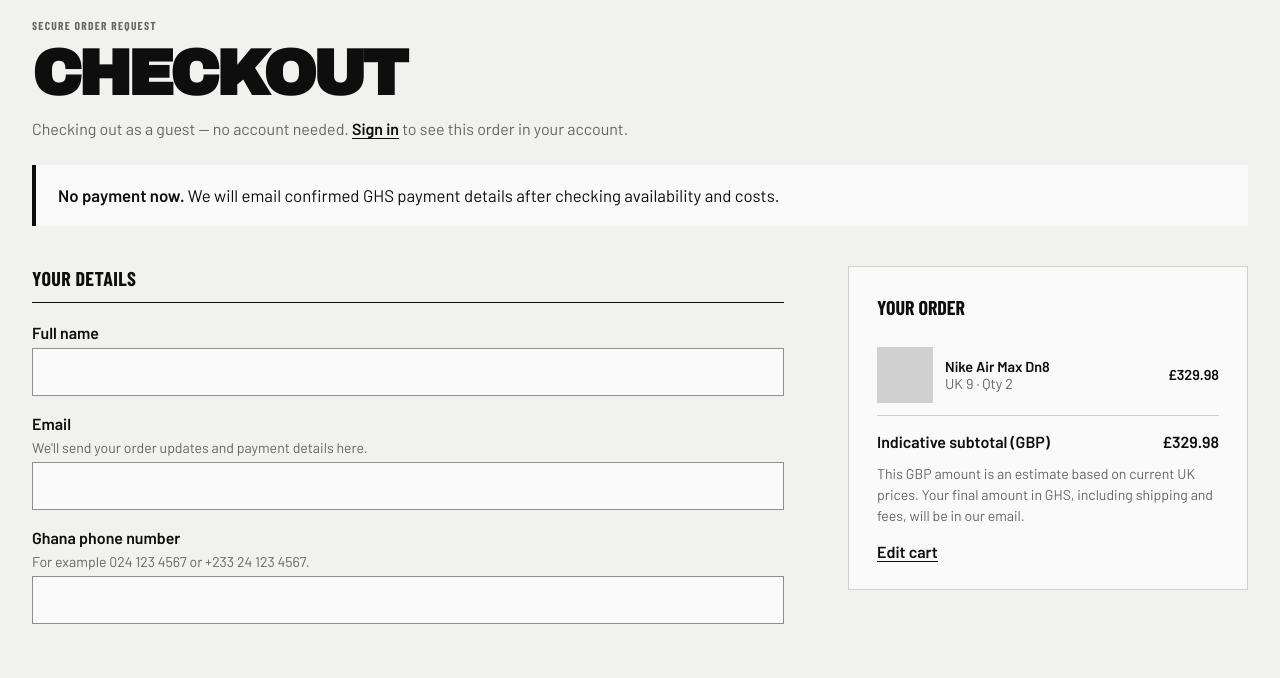
Test case: network uncertainty keeps the cart and says retrying is safe
The width and height of the screenshot is (1280, 678).
Type "Ama Mensah" into the field labelled "Full name" at (408, 372), box [32, 348, 784, 396]
Type "ama@example.test" into the field labelled "Email" at (408, 486), box [32, 462, 784, 510]
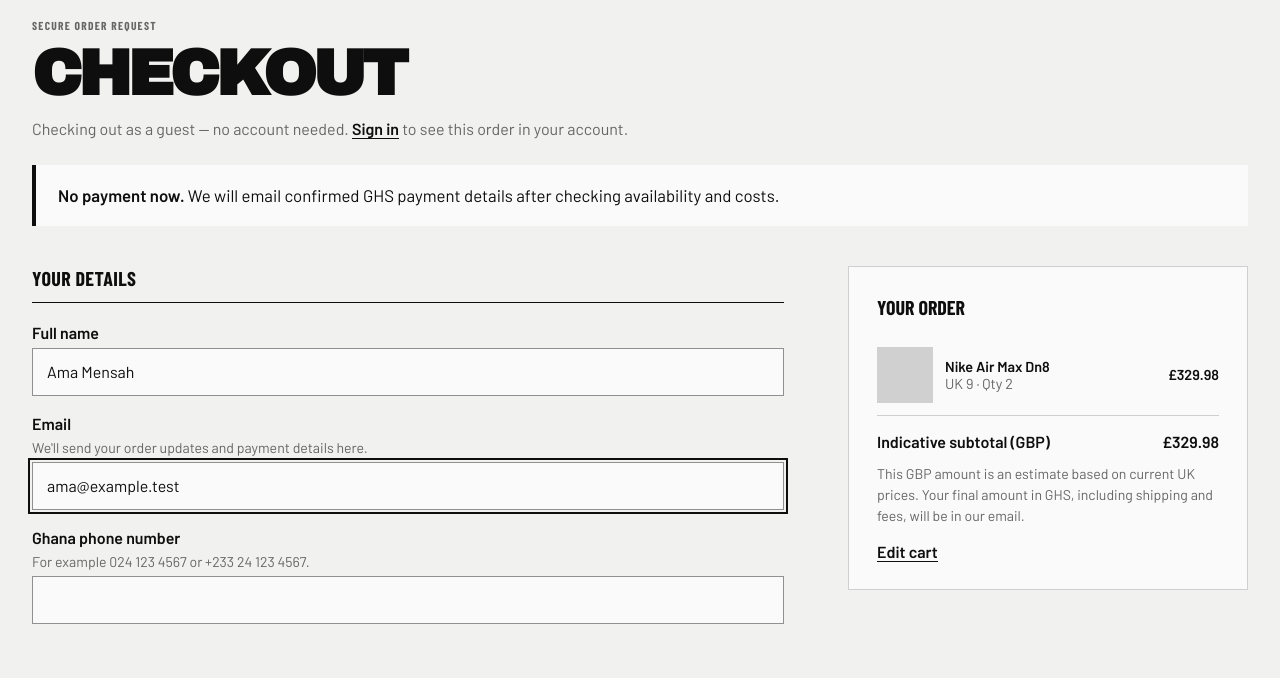
Type "024 123 4567" into the field labelled "Ghana phone number" at (408, 600), box [32, 576, 784, 624]
(page scrolled)
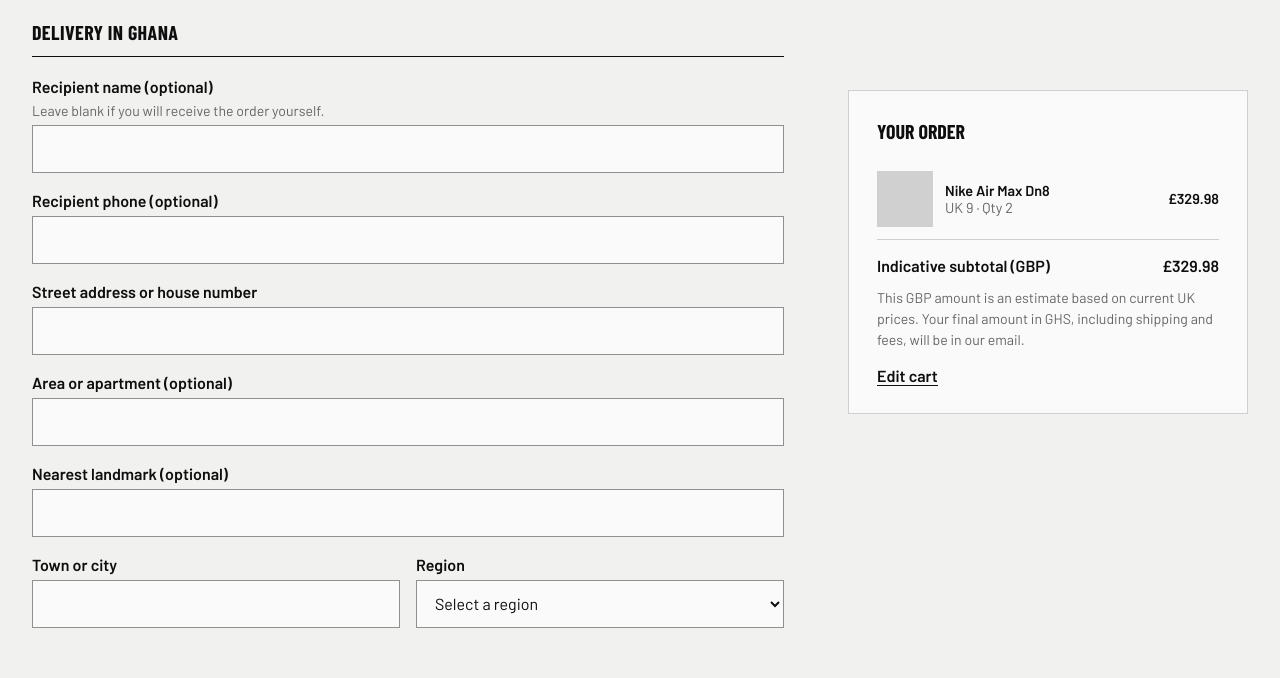
Type "12 Ring Road East" into the field labelled "Street address or house number" at (408, 331), box [32, 307, 784, 355]
Type "Accra" into the field labelled "Town or city" at (216, 604), box [32, 580, 400, 628]
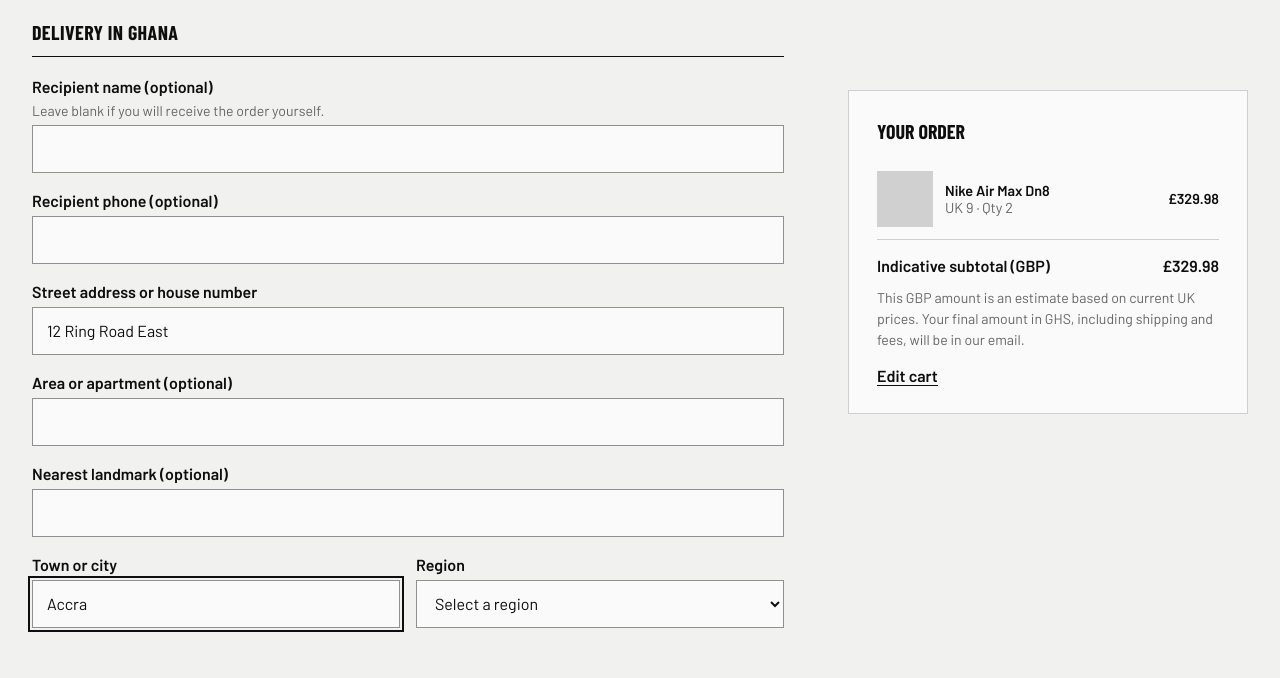
Select "Greater Accra" in the dropdown labelled "Region" at (600, 604), box [416, 580, 784, 628]
(page scrolled)
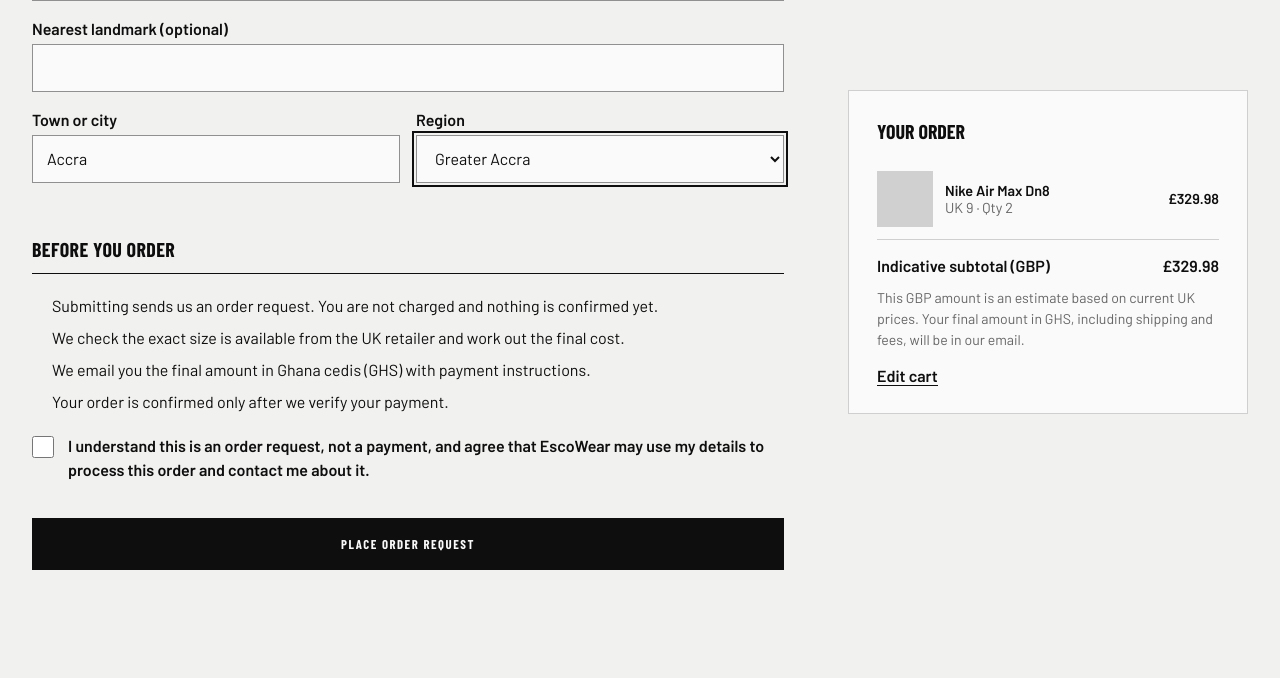
Click the checkbox labelled "I understand this is an order request" at (43, 447), box [32, 436, 54, 458]
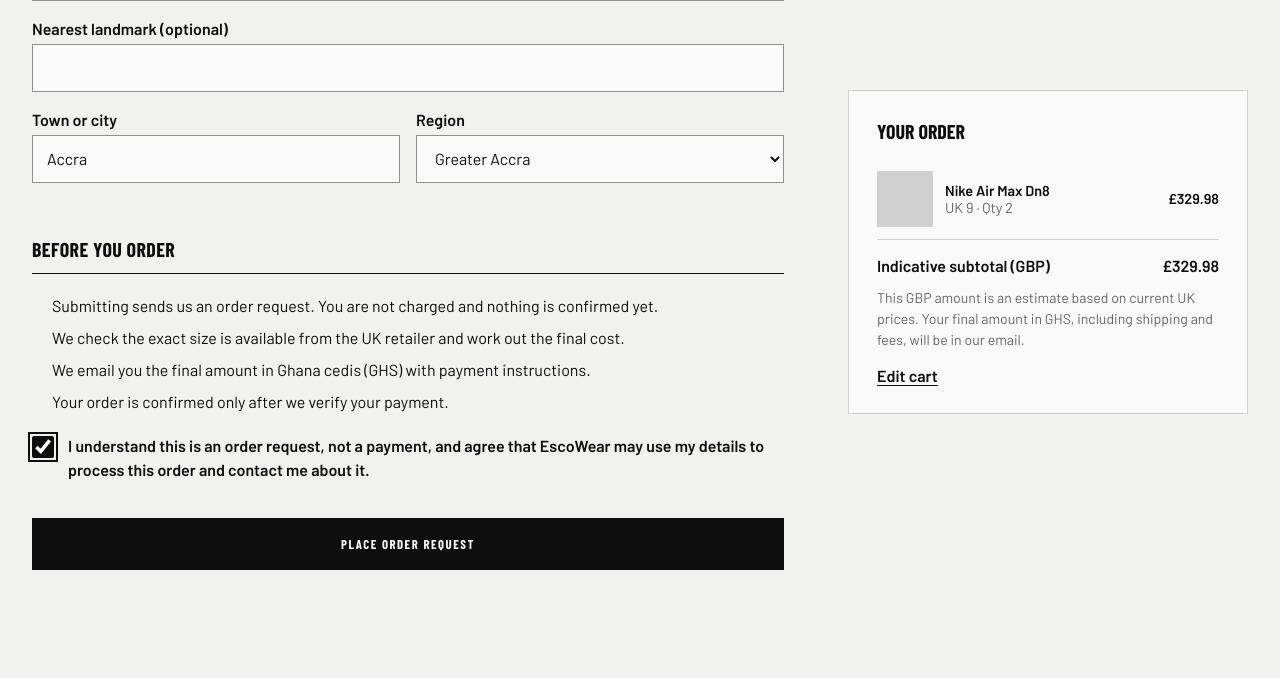
Click the button "Place order request" at (408, 544), box [32, 518, 784, 570]
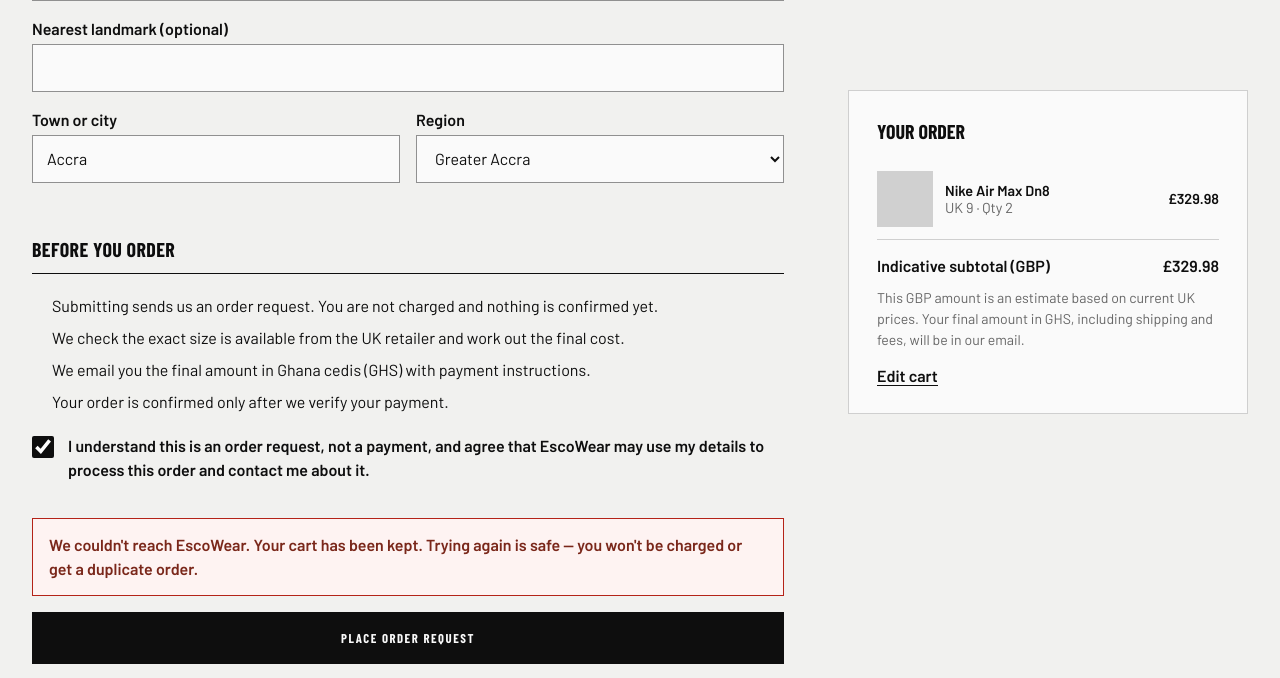
Check: the button "Place order request" is enabled, box [32, 612, 784, 664]
Check: the message shows "Trying again is safe", box [49, 535, 742, 578]
